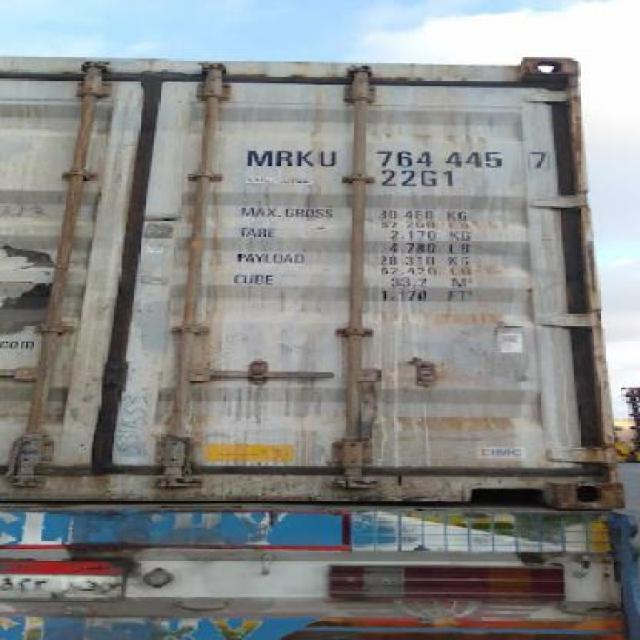ISO: (376, 168, 456, 186)
container_number: (237, 144, 547, 170)
